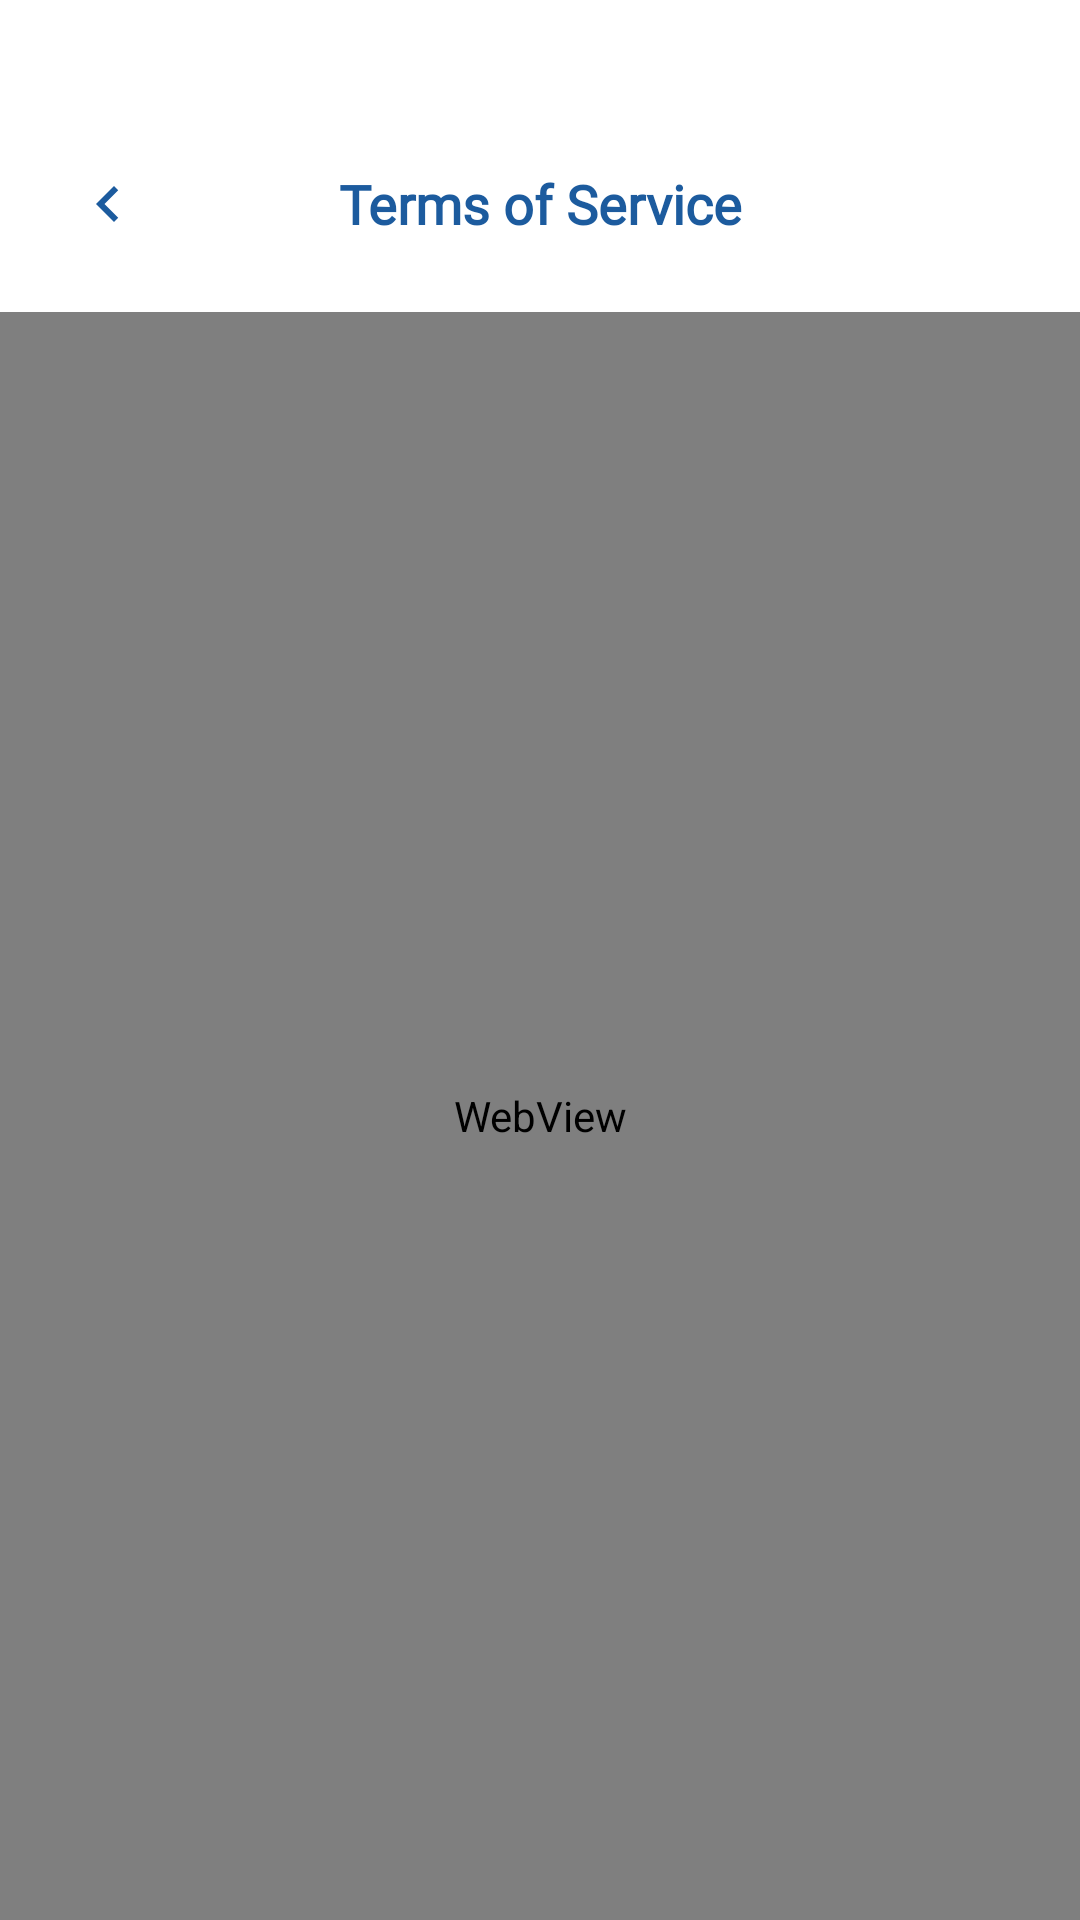

Icon bounding boxes for this 1080*1920 phone screenshot, format (x1, y1, x2, y2):
Back: (96, 186, 118, 222)
